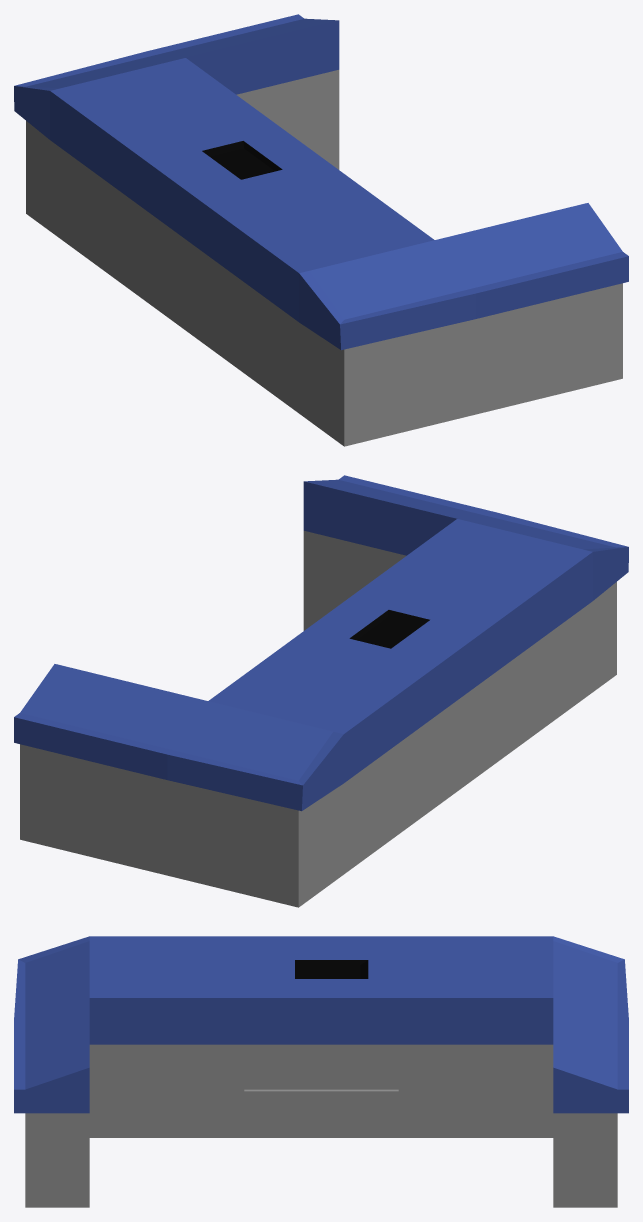
The model's file is cashout_stand.fbx.
3 renders of one model, top to bottom at view 1: azimuth 30°, elevation 25°; view 2: azimuth 150°, elevation 25°; view 3: azimuth 270°, elevation 25°, orthographic. The views are drawn at different scales.
Visible parts, largest first — view 1: cashout_stand; view 2: cashout_stand; view 3: cashout_stand.
Part boxes in pixels (x1,y1,x2,y2): cashout_stand: (14, 14, 628, 446); cashout_stand: (14, 475, 628, 907); cashout_stand: (14, 936, 628, 1207).
Size of the model in its own units: 187 by 92.97 by 370.
